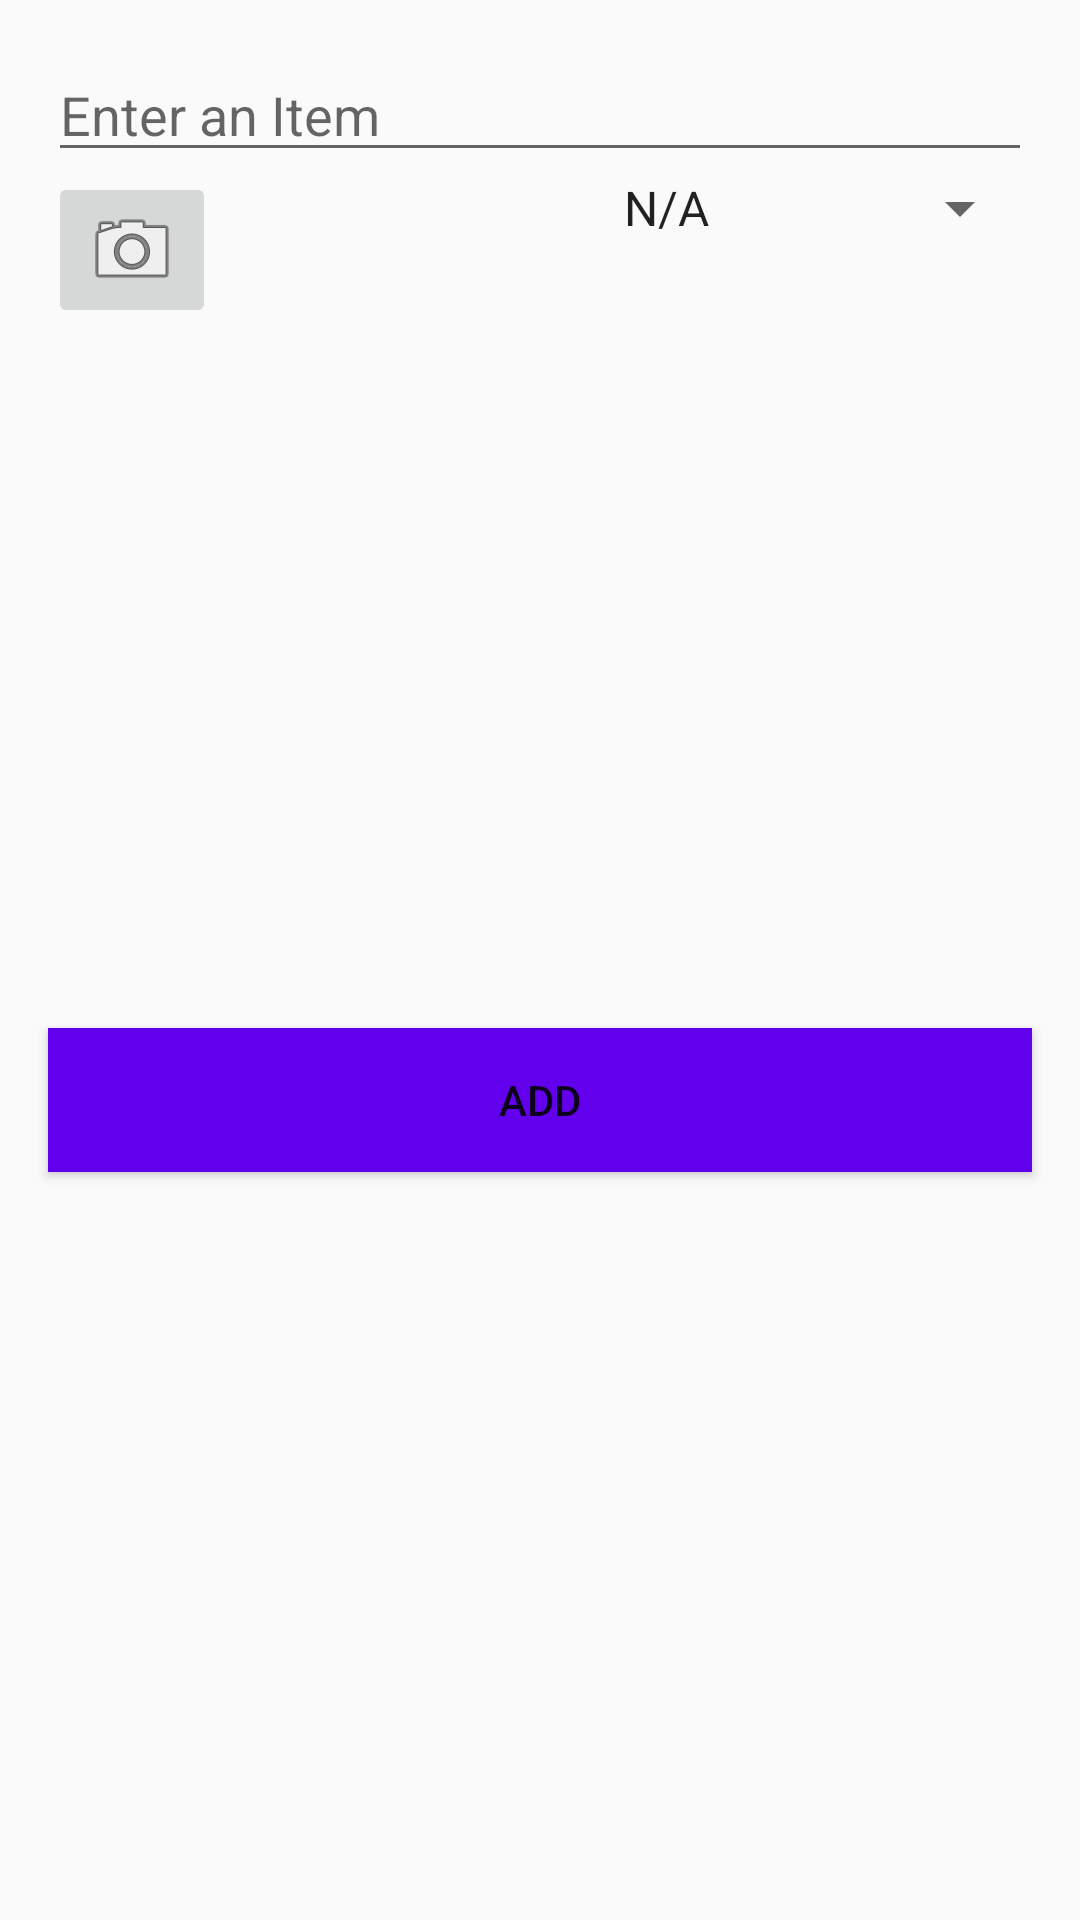

Where to tap for icons on this 1080px x 1920px app screen, as point (x, y):
camera: point (132, 250)
